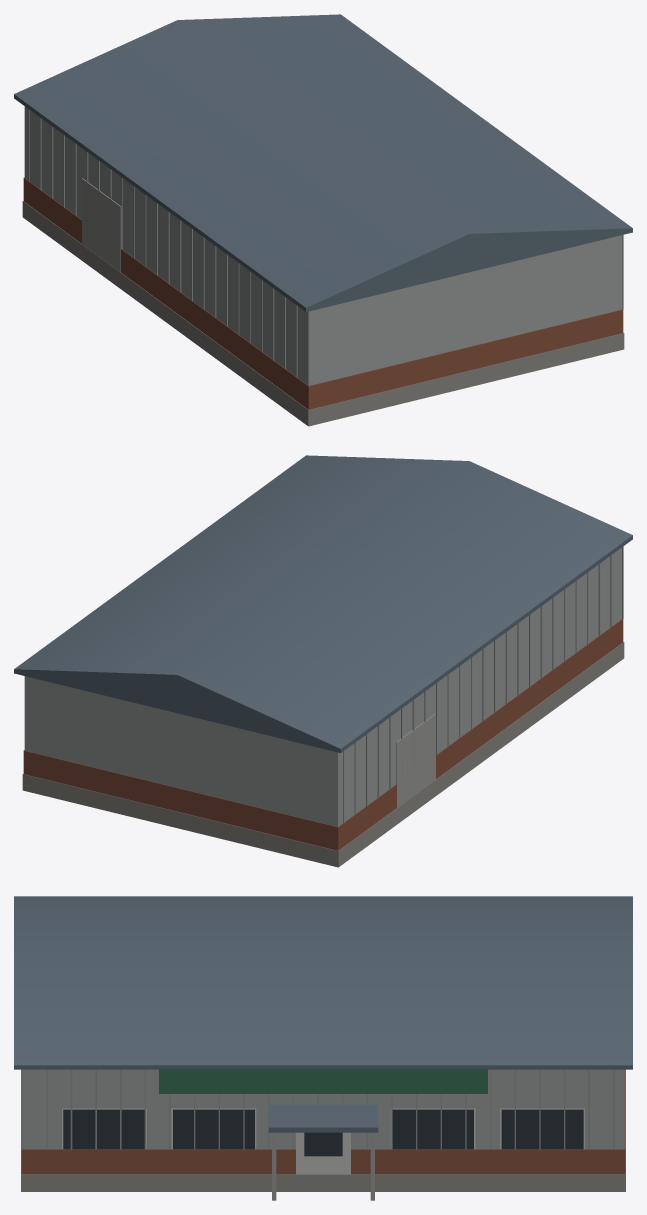
The model's file is SM_Prop_cafe_building_18_LOD1.glb.
3 renders of one model, top to bottom at view 1: azimuth 30°, elevation 25°; view 2: azimuth 150°, elevation 25°; view 3: azimuth 270°, elevation 25°, orthographic. The views are drawn at different scales.
Parts seen in each view (by area): view 1: SM_Prop_cafe_building_18_LOD1; view 2: SM_Prop_cafe_building_18_LOD1; view 3: SM_Prop_cafe_building_18_LOD1.
Boxes of the visible parts, x1,y1,x2,y2 form: SM_Prop_cafe_building_18_LOD1: (14, 14, 632, 426); SM_Prop_cafe_building_18_LOD1: (14, 455, 632, 867); SM_Prop_cafe_building_18_LOD1: (14, 896, 632, 1200).
Bounding box in the file's own units: 16.3 × 6.68 × 22.6.
